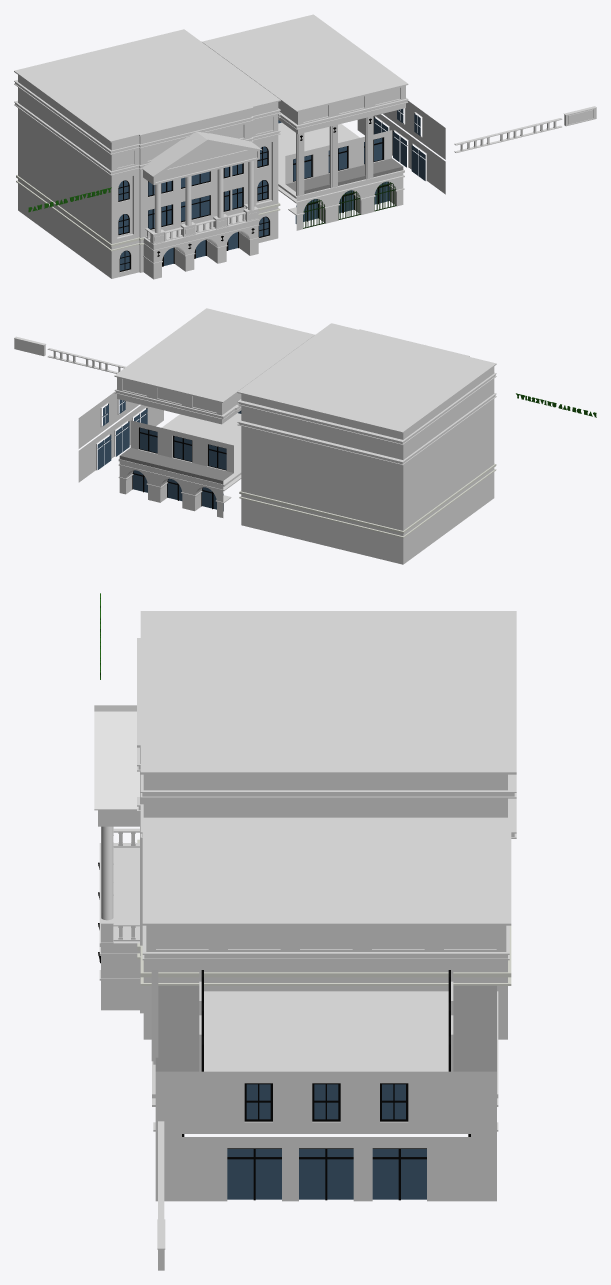
File: LaSalle.fbx
3 renders of one model, top to bottom at view 1: azimuth 30°, elevation 25°; view 2: azimuth 150°, elevation 25°; view 3: azimuth 270°, elevation 25°, orthographic. The views are drawn at different scales.
Parts seen in each view (by area): view 1: LaSalle_Roof1_Border, LaSalle_Roof2_Border, LaSalle_Floor1.1_Main, LaSalle_Roof1_Main, LaSalle_Floor1.2_Main, LaSalle_Base1_Main, LaSalle_Front_Roof, LaSalle_Front_Main, LaSalle _Base2_Border, LaSalle_Roof2_Main, LaSalle _Base2_Main, LaSalle_Floor2_Wall (+21 smaller); view 2: LaSalle_Roof1_Border, LaSalle_Roof2_Border, LaSalle_Floor1.2_Main, LaSalle_Floor1.1_Main, LaSalle_Base1_Main, LaSalle_Roof1_Main, LaSalle _Base2_Border, LaSalle_Roof2_Main, LaSalle _Base2_Main, LaSalle_Floor2_Main, LaSalle_Base1_Border, LaSalle_Floor2_Floor (+8 smaller); view 3: LaSalle_Roof1_Border, LaSalle_Roof2_Border, LaSalle _Base2_Border, LaSalle_Floor3_Main, LaSalle_Roof1_Main, LaSalle_Roof2_Main, LaSalle _Base3_Main, LaSalle _Base3_Windows, LaSalle_Floor2_Floor, LaSalle_Front_Roof, LaSalle_Base1_Main, LaSalle_Base1_Border (+8 smaller).
Part boxes in pixels (x1,y1,x2,y2): LaSalle_Roof1_Border: (14, 29, 280, 175); LaSalle_Roof2_Border: (202, 14, 408, 129); LaSalle_Floor1.1_Main: (18, 142, 278, 243); LaSalle_Roof1_Main: (18, 75, 278, 176); LaSalle_Floor1.2_Main: (18, 108, 278, 210); LaSalle_Base1_Main: (18, 179, 278, 278); LaSalle_Front_Roof: (142, 131, 262, 184); LaSalle_Front_Main: (143, 221, 258, 279); LaSalle _Base2_Border: (278, 122, 404, 215); LaSalle_Roof2_Main: (278, 85, 405, 134); LaSalle _Base2_Main: (296, 173, 403, 230); LaSalle_Floor2_Wall: (296, 116, 373, 196); LaSalle_Roof1_Border: (237, 323, 496, 465); LaSalle_Roof2_Border: (114, 308, 314, 419); LaSalle_Floor1.2_Main: (241, 399, 494, 498); LaSalle_Floor1.1_Main: (241, 432, 494, 530); LaSalle_Base1_Main: (241, 468, 494, 564); LaSalle_Roof1_Main: (241, 366, 494, 465); LaSalle _Base2_Border: (118, 413, 241, 503); LaSalle_Roof2_Main: (117, 377, 241, 424); LaSalle _Base2_Main: (119, 461, 223, 517); LaSalle_Floor2_Main: (130, 420, 233, 472); LaSalle_Base1_Border: (239, 463, 496, 538); LaSalle_Floor2_Floor: (119, 448, 233, 484); LaSalle_Roof1_Border: (137, 611, 516, 838); LaSalle_Roof2_Border: (142, 817, 511, 960); LaSalle _Base2_Border: (152, 991, 498, 1131); LaSalle_Floor3_Main: (155, 1071, 496, 1133); LaSalle_Roof1_Main: (140, 747, 507, 817); LaSalle_Roof2_Main: (146, 925, 506, 969); LaSalle _Base3_Main: (155, 1137, 496, 1201); LaSalle _Base3_Windows: (227, 1149, 426, 1199); LaSalle_Floor2_Floor: (155, 985, 496, 1071); LaSalle_Front_Roof: (94, 705, 139, 826); LaSalle_Base1_Main: (140, 950, 507, 1039); LaSalle_Base1_Border: (137, 839, 511, 985).
Bounding box in the file's own units: 7413 × 1682 × 2391.
